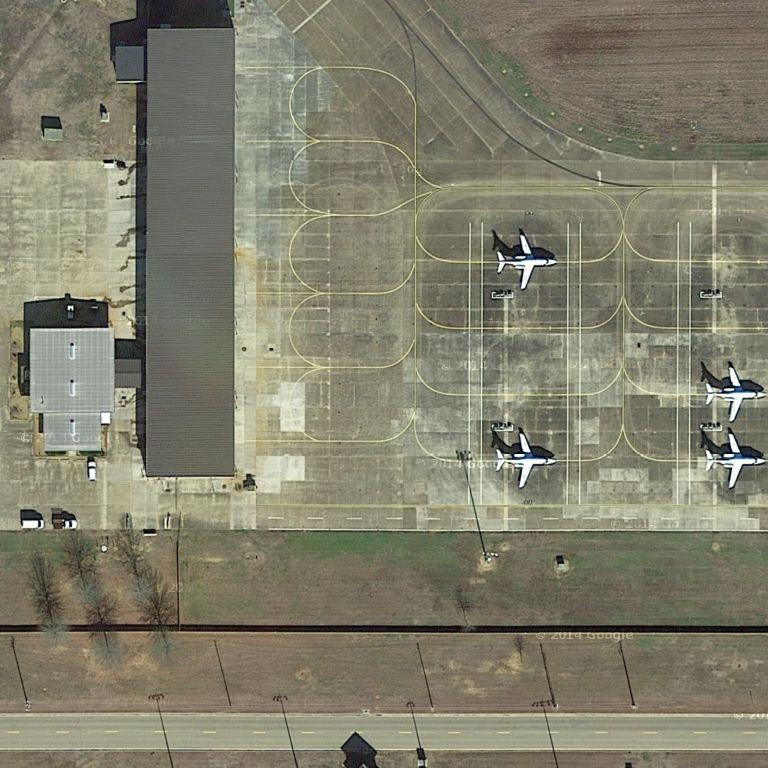plane: (490, 427, 559, 490), (697, 432, 768, 492), (697, 366, 766, 425), (493, 231, 559, 286)
